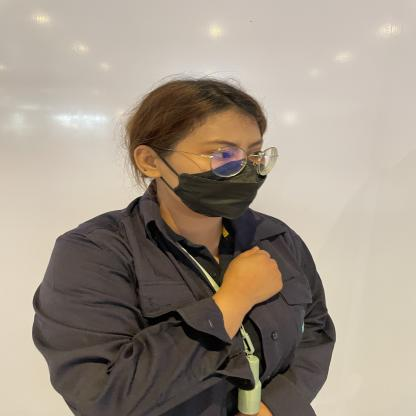Sadness: (144, 230, 337, 334)
